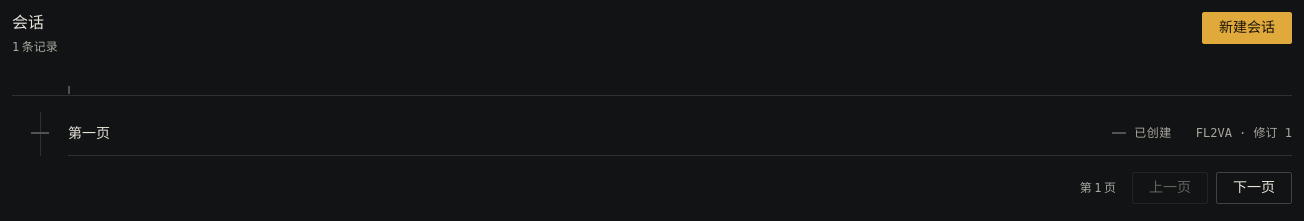
Test: SessionsListView 列表与徽标 › 分页：下一页带游标，上一页回到首页
Click the button "下一页": [1254, 188] box x1=1216 y1=172 x2=1292 y2=204
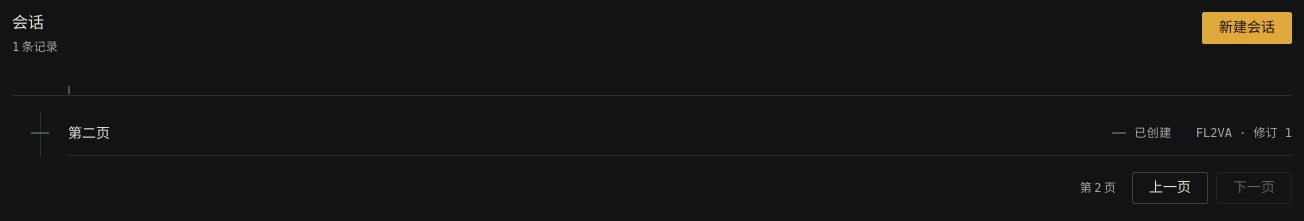
Result: the text "第二页" is shown at x1=68 y1=126 x2=110 y2=141
Result: the button "上一页" is enabled
Click the button "上一页": [1170, 188] box x1=1132 y1=172 x2=1208 y2=204
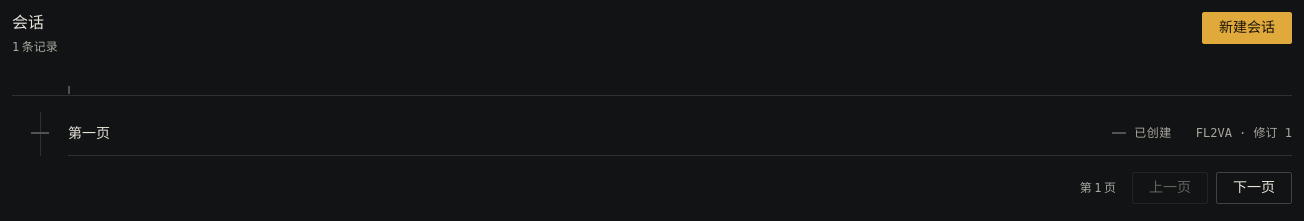
Result: the text "第一页" is shown at x1=68 y1=126 x2=110 y2=141
